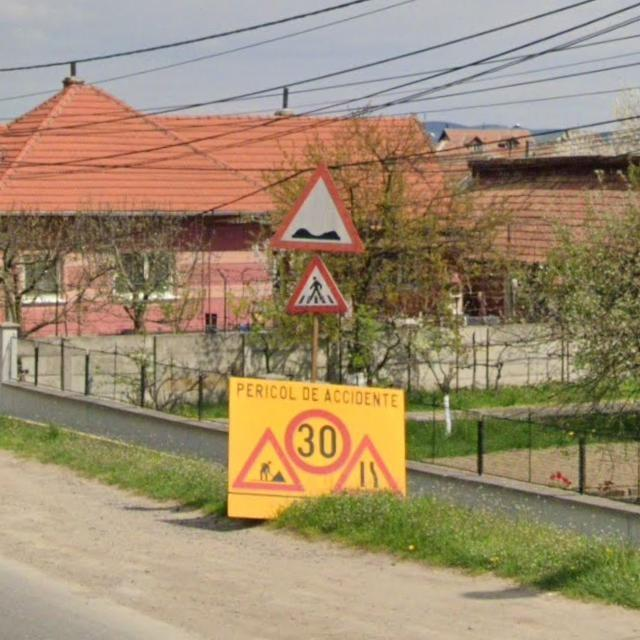forb_speed_over_30: (286, 410, 351, 476)
warn_crosswalk: (285, 253, 349, 313)
